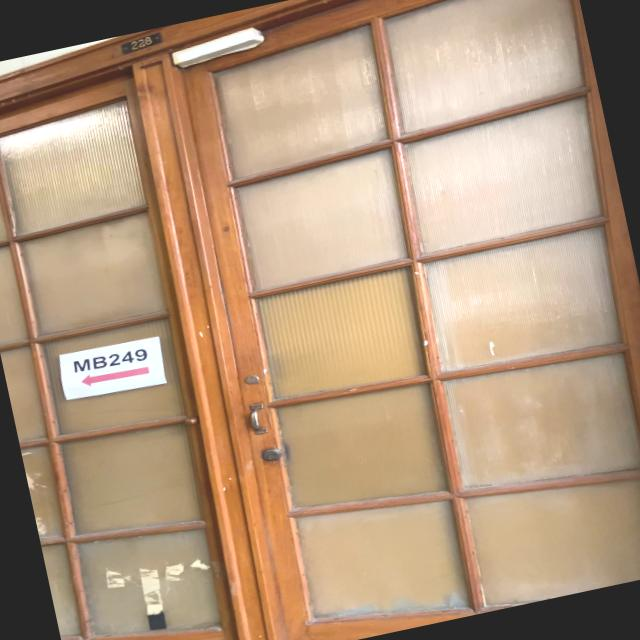room228: (117, 29, 165, 55)
